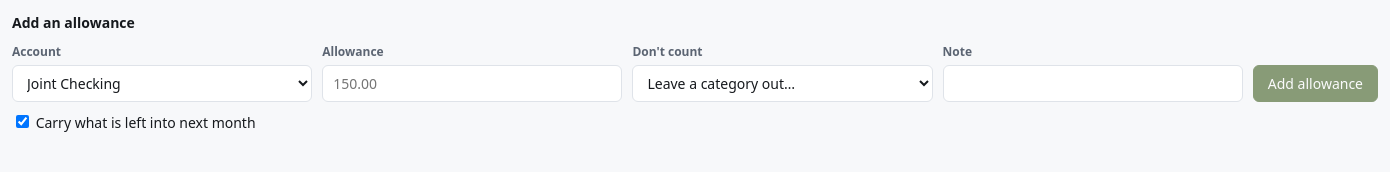
AccountLineForm › clears itself after a save, and shows the server's problem when there is one
Type "-5" into the field labelled "Allowance" at (472, 84), box [322, 65, 622, 102]
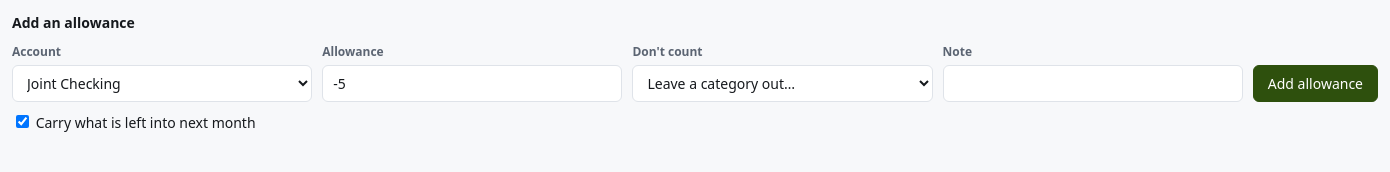
Click the button "Add allowance" at (1315, 84), box [1253, 65, 1378, 102]
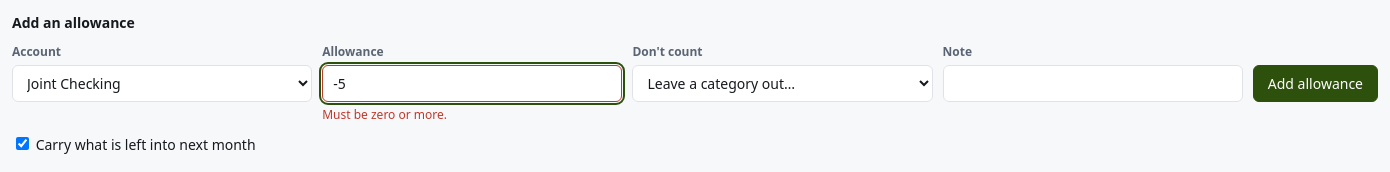
Now the text "Must be zero or more." is shown, box [322, 106, 447, 123]
